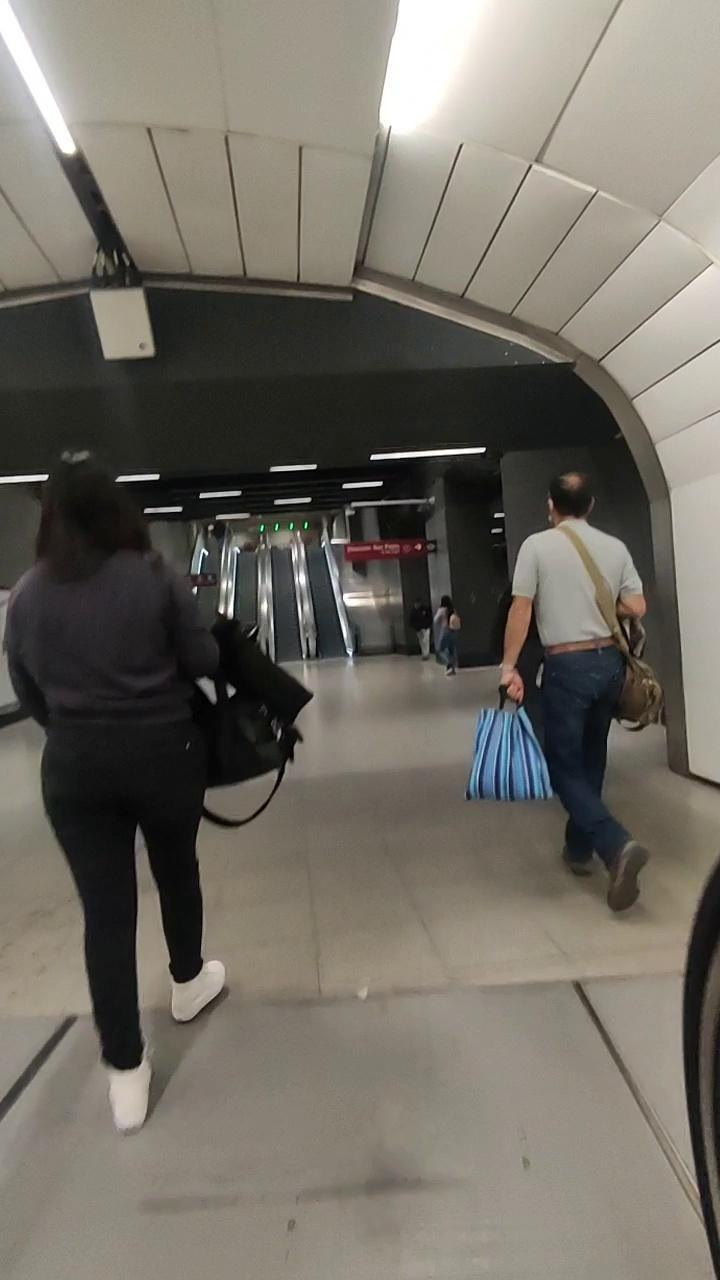right arrow: (413, 542, 423, 553)
